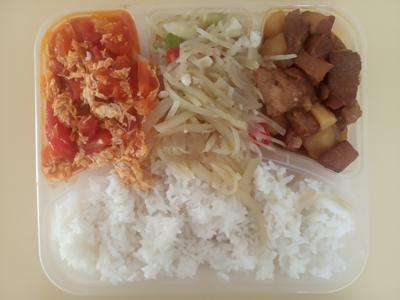jdxhs: (39, 10, 155, 175)
jrtd: (261, 7, 367, 178)
rice: (50, 157, 373, 278)
